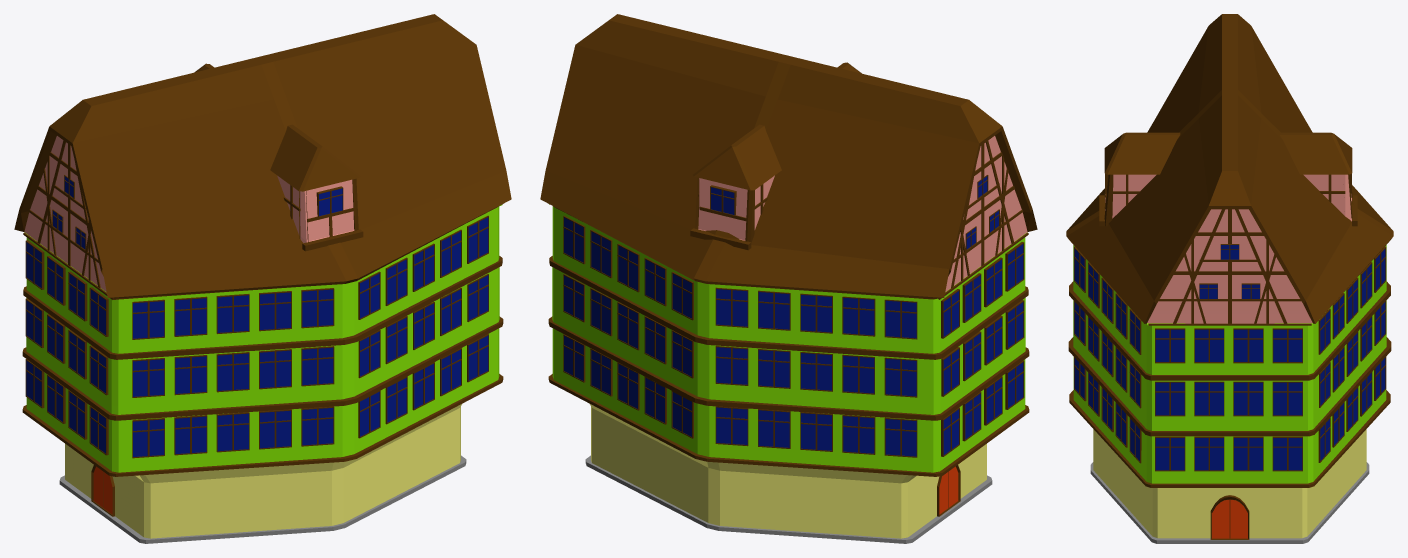
The picture shows the model from 3 angles, left to right: view 1: azimuth 30°, elevation 25°; view 2: azimuth 150°, elevation 25°; view 3: azimuth 270°, elevation 25°; orthographic projection. The views are drawn at different scales.
Bounding box in the file's own units: 0.2757 × 0.2698 × 0.2113.
